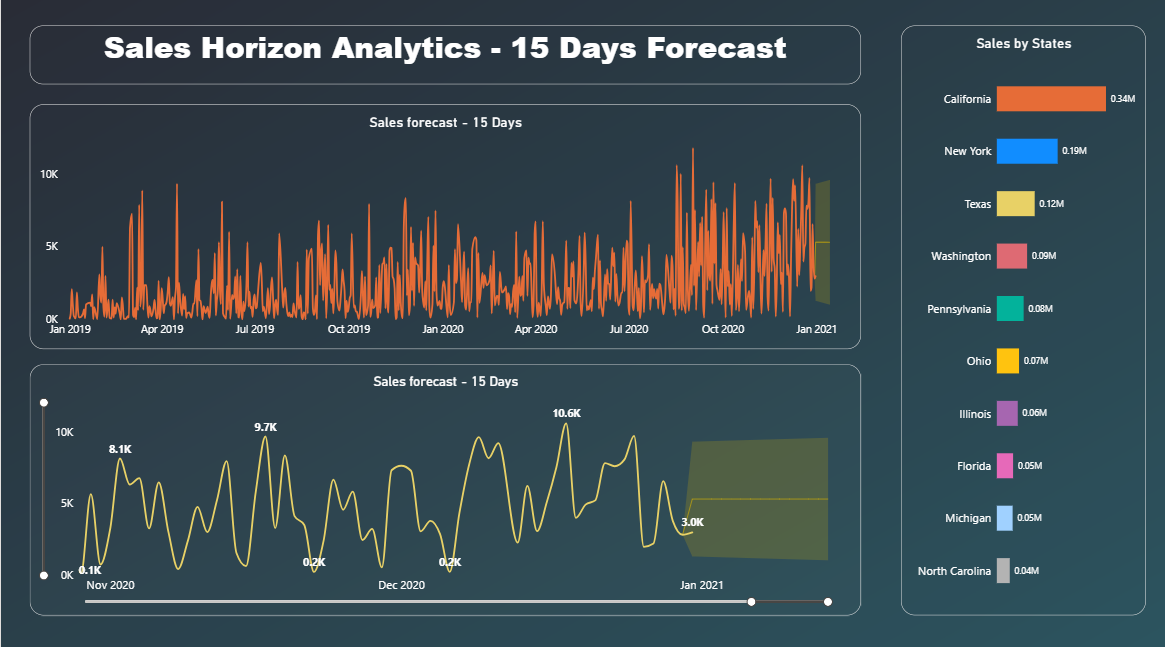

Layout of this report page (visuals, bound fields, positions):
{"tool":"powerbi","page":{"name":"Page 2","canvas":[1920,1080],"ordinal":1},"visuals":[{"type":"lineChart","title":"Sales forecast - 15 Days","fields":{"Y":["Sum(SuperStore_Sales_Dataset.Sales)"],"Category":["SuperStore_Sales_Dataset.Order Date"]},"box":[47.3,175,1368.8,403.4],"z":0},{"type":"lineChart","title":"Sales forecast - 15 Days","fields":{"Y":["Sum(SuperStore_Sales_Dataset.Sales)"],"Category":["SuperStore_Sales_Dataset.Order Date"]},"box":[47.3,603.1,1368.8,413.7],"z":1000},{"type":"textbox","box":[47.3,45.3,1368.8,96.7],"z":2000},{"type":"barChart","title":"Sales by States","fields":{"Category":["SuperStore_Sales_Dataset.State"],"Y":["Sum(SuperStore_Sales_Dataset.Sales)"]},"box":[1482,45.3,403.4,971.5],"z":3000}]}

Visuals, with their boxes in screenshot pixels (x1, y1, x2, y2), scaled from the page's 1920x1080 canvas onto the 1165x647 screenshot:
"Sales forecast - 15 Days" lineChart: (29,105,859,347)
"Sales forecast - 15 Days" lineChart: (29,361,859,609)
textbox: (29,27,859,85)
"Sales by States" barChart: (899,27,1144,609)
